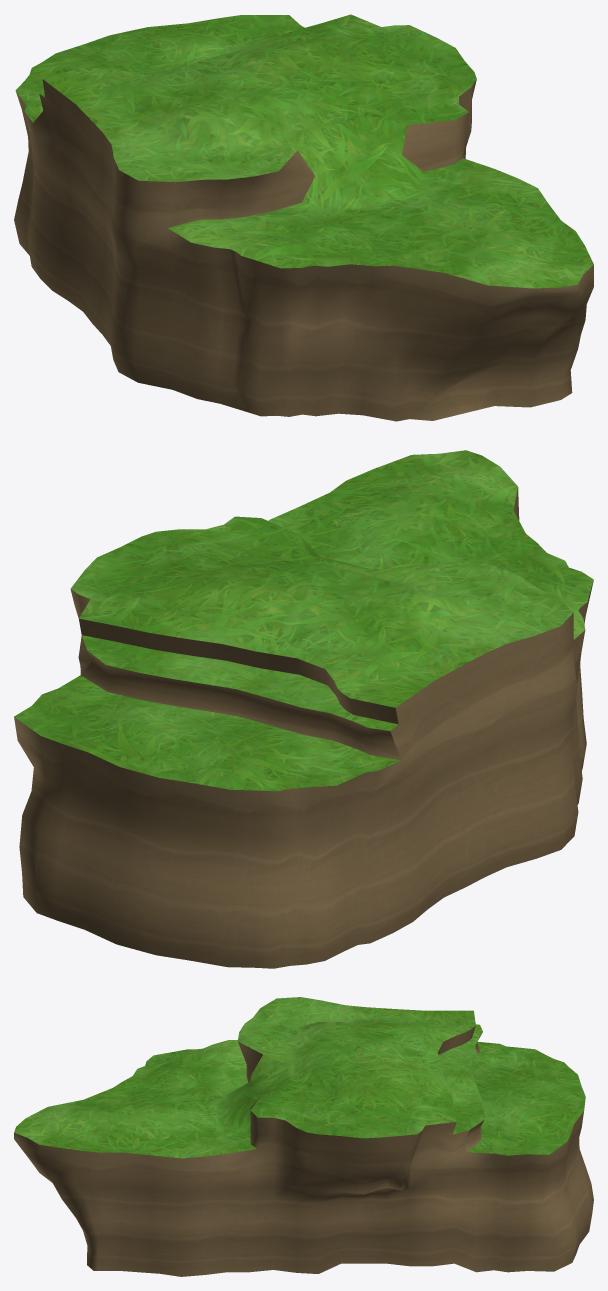
The model's file is lvl1_plat015.FBX.
3 views of the same model, one above another, from view 1: azimuth 30°, elevation 25°; view 2: azimuth 150°, elevation 25°; view 3: azimuth 270°, elevation 25° (orthographic). The views are drawn at different scales.
Parts seen in each view (by area): view 1: lvl1_plat_015, lvl1_plat_015_grass; view 2: lvl1_plat_015, lvl1_plat_015_grass; view 3: lvl1_plat_015, lvl1_plat_015_grass.
Boxes of the visible parts, x1,y1,x2,y2 form: lvl1_plat_015: (14,79,593,421); lvl1_plat_015_grass: (15,14,593,288); lvl1_plat_015: (14,487,593,968); lvl1_plat_015_grass: (14,450,593,791); lvl1_plat_015: (14,1025,593,1276); lvl1_plat_015_grass: (14,997,585,1158).
Size of the model in its own units: 1957 by 1071 by 3353.
